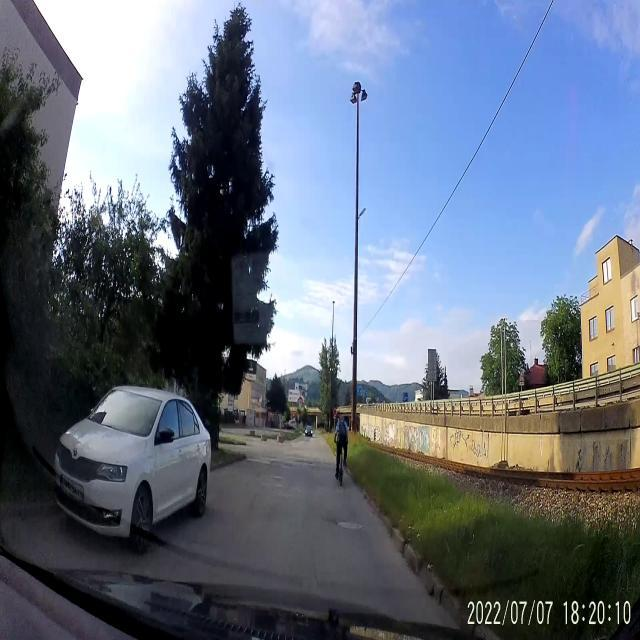Manhole: (340, 519, 364, 532)
Pothole: (328, 516, 338, 526), (284, 461, 294, 469), (294, 460, 312, 464)
